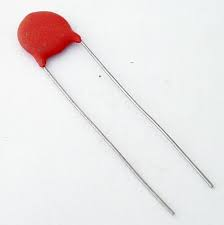ceramic capacitor: (6, 4, 104, 91)
